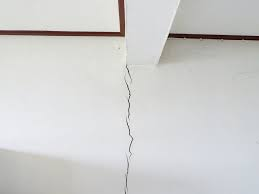crack: (121, 63, 133, 193)
